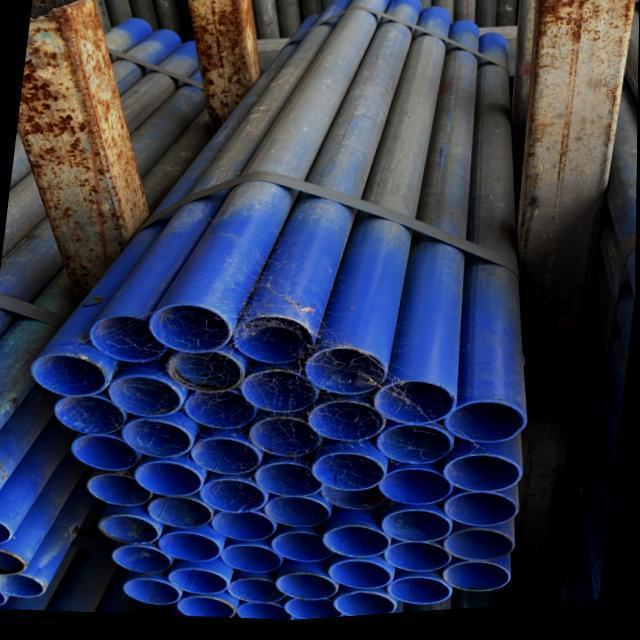pipe: (228, 319, 314, 370), (146, 305, 229, 354), (306, 353, 388, 401), (241, 368, 321, 417), (245, 417, 325, 466), (86, 314, 167, 362), (67, 432, 154, 474), (190, 430, 261, 481), (441, 406, 525, 449), (377, 384, 457, 429), (50, 394, 130, 439), (166, 352, 245, 397), (103, 372, 178, 419), (179, 390, 267, 430), (27, 351, 103, 396), (376, 467, 454, 510), (435, 457, 518, 497), (376, 427, 453, 470), (84, 470, 164, 510), (308, 402, 384, 444), (314, 452, 388, 495), (435, 496, 518, 533), (112, 416, 188, 456), (133, 457, 206, 498), (251, 458, 323, 499), (266, 530, 346, 565), (198, 475, 269, 514), (377, 513, 456, 548), (260, 498, 333, 534), (143, 494, 215, 530), (109, 543, 177, 581), (370, 545, 456, 575), (218, 541, 283, 578), (96, 512, 162, 548), (319, 525, 386, 560), (203, 512, 281, 542), (440, 563, 510, 595), (155, 528, 219, 563), (272, 572, 344, 603), (445, 537, 510, 571), (222, 577, 283, 609), (382, 579, 446, 609), (162, 564, 226, 594), (325, 563, 386, 594), (121, 576, 181, 606), (315, 489, 389, 512), (331, 594, 394, 620), (173, 595, 238, 620), (285, 601, 343, 624), (235, 604, 298, 624), (0, 572, 40, 596), (0, 547, 26, 574), (0, 523, 12, 543)
